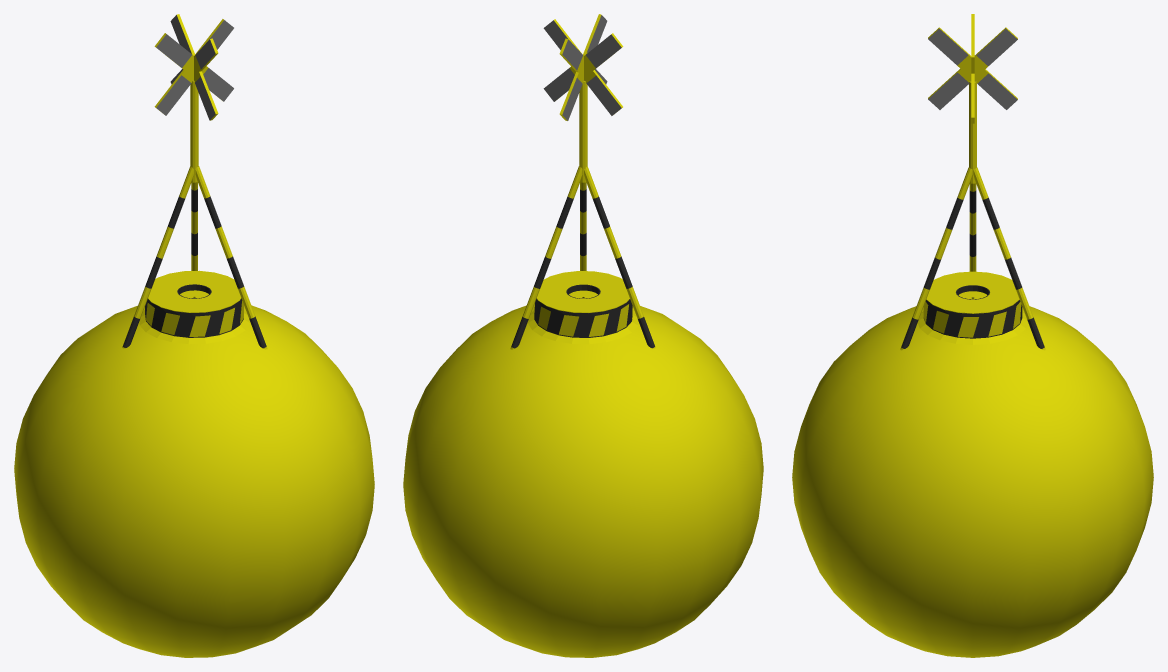
The model's file is buoyFBX_v1.fbx.
The picture shows the model from 3 angles, left to right: view 1: azimuth 30°, elevation 25°; view 2: azimuth 150°, elevation 25°; view 3: azimuth 270°, elevation 25°; orthographic projection.
Parts seen in each view (by area): view 1: buoy; view 2: buoy; view 3: buoy.
Part boxes in pixels (x1,y1,x2,y2): buoy: (14,14,374,657); buoy: (403,14,763,657); buoy: (792,14,1153,657).
Bounding box in the file's own units: 5.3 × 9.92 × 5.3.
